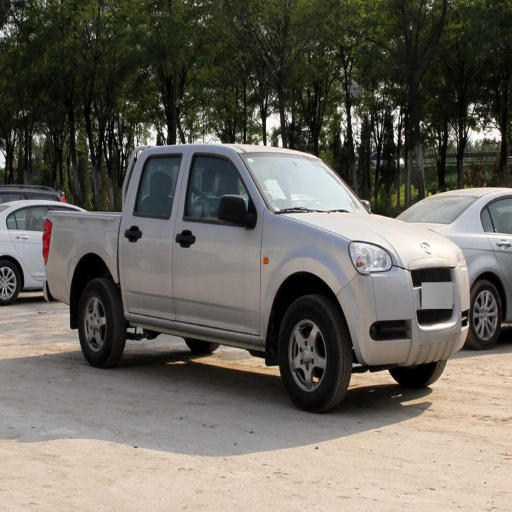back_right_door: (120, 152, 188, 318)
front_bumper: (340, 256, 468, 364)
front_right_door: (173, 152, 260, 332)
front_right_light: (350, 242, 397, 273)
trunk: (2, 203, 118, 303)
